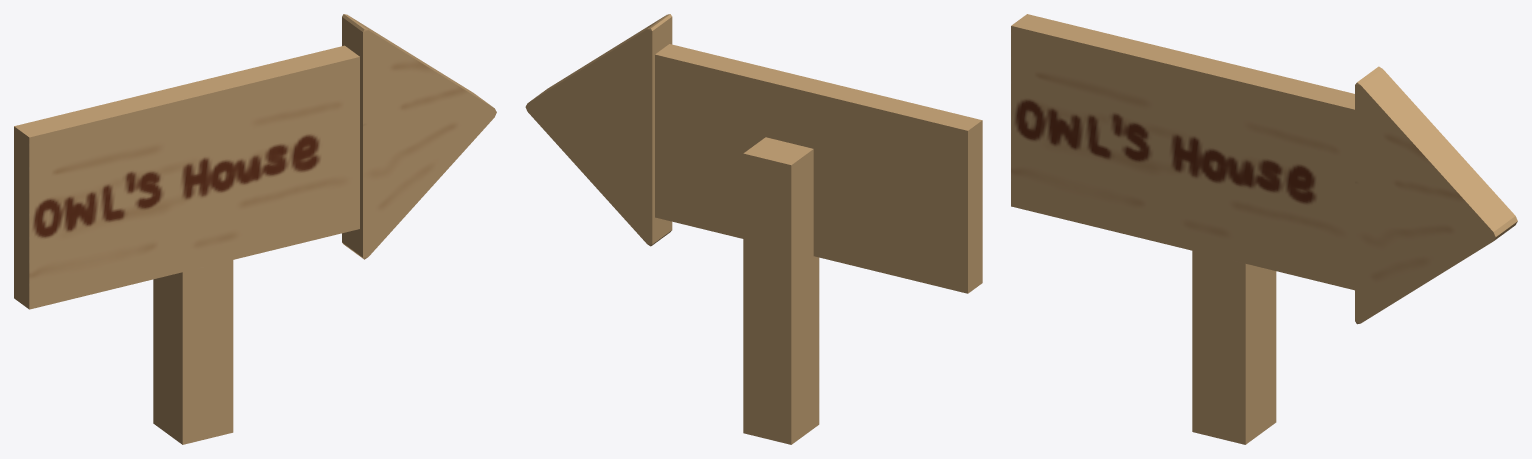
File: sign1.fbx
3 views of the same model, side by side, from view 1: azimuth 30°, elevation 25°; view 2: azimuth 150°, elevation 25°; view 3: azimuth 330°, elevation 25° (orthographic). The views are drawn at different scales.
Parts seen in each view (by area): view 1: Sign1; view 2: Sign1; view 3: Sign1.
Boxes of the visible parts, x1,y1,x2,y2 form: Sign1: [14, 14, 496, 444]; Sign1: [525, 14, 982, 444]; Sign1: [1011, 14, 1517, 444].
Size of the model in its own units: 187 by 148 by 29.19.
